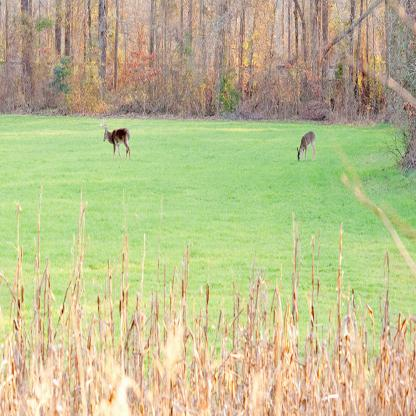Deer: (100, 116, 131, 162), (296, 130, 316, 162)
